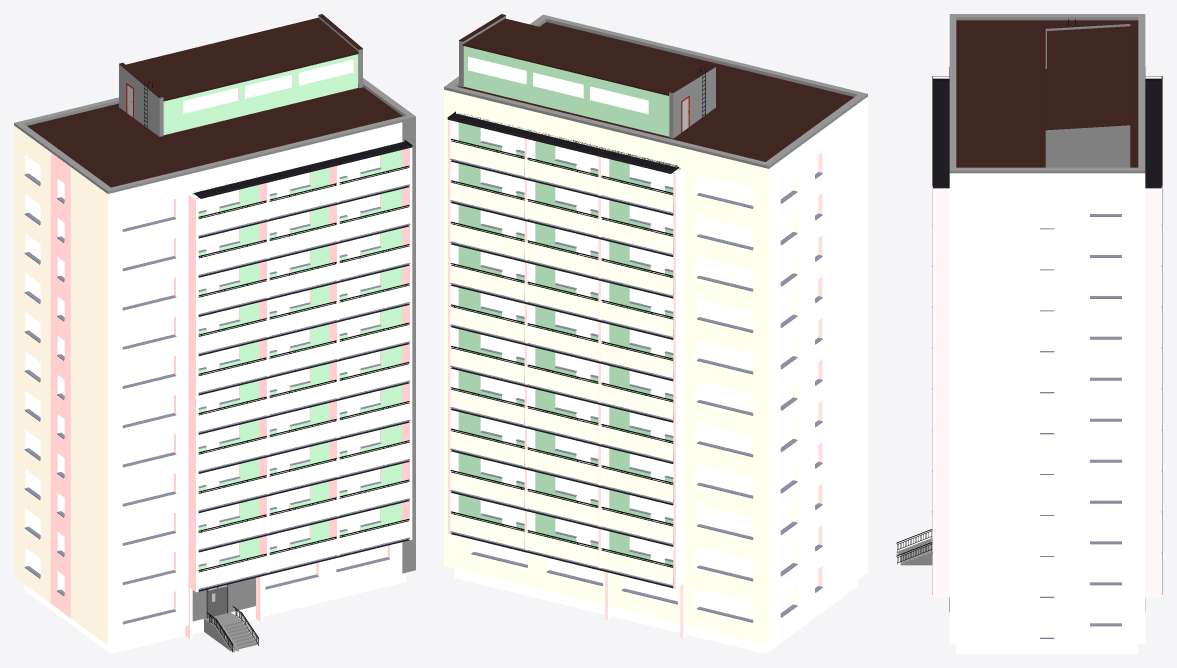
3 renders of one model, left to right at view 1: azimuth 30°, elevation 25°; view 2: azimuth 150°, elevation 25°; view 3: azimuth 270°, elevation 25°, orthographic. The views are drawn at different scales.
Visible parts, largest first — view 1: o_concrete_01, o_transparent_balcony, o_glass, o_roof, o_concrete_04, o_concrete_03, o_sides, o_frames, o_concrete_02, o_balcony_barriers, o_balcony_base, o_base (+2 smaller); view 2: o_concrete_01, o_transparent_balcony, o_glass, o_concrete_04, o_concrete_03, o_roof, o_sides, o_frames, o_concrete_02, o_balcony_base, o_balcony_barriers, o_base; view 3: o_concrete_01, o_roof, o_concrete_04, o_concrete_02, o_glass, o_balcony_base, o_transparent_balcony, o_sides, o_frames, o_base, o_balcony_barriers.
Boxes of the visible parts, <box> form: o_concrete_01: <box>14,122,402,645</box>; o_transparent_balcony: <box>198,167,409,588</box>; o_glass: <box>29,60,386,633</box>; o_roof: <box>27,14,412,198</box>; o_concrete_04: <box>50,59,412,638</box>; o_concrete_03: <box>160,54,401,571</box>; o_sides: <box>24,167,410,624</box>; o_frames: <box>29,59,387,621</box>; o_concrete_02: <box>14,16,415,652</box>; o_balcony_barriers: <box>198,165,409,652</box>; o_balcony_base: <box>193,140,412,591</box>; o_base: <box>23,573,406,653</box>; o_concrete_01: <box>444,89,867,644</box>; o_transparent_balcony: <box>450,141,672,584</box>; o_glass: <box>470,57,817,632</box>; o_concrete_04: <box>448,56,828,638</box>; o_concrete_03: <box>458,46,681,577</box>; o_roof: <box>447,14,853,173</box>; o_sides: <box>449,141,822,622</box>; o_frames: <box>469,57,818,619</box>; o_concrete_02: <box>444,14,867,168</box>; o_balcony_base: <box>447,112,678,588</box>; o_balcony_barriers: <box>450,139,673,583</box>; o_base: <box>454,568,857,653</box>; o_concrete_01: <box>949,173,1145,644</box>; o_roof: <box>932,20,1162,186</box>; o_concrete_04: <box>933,78,1161,597</box>; o_concrete_02: <box>896,14,1145,565</box>; o_glass: <box>1041,195,1120,623</box>; o_balcony_base: <box>933,78,1161,188</box>; o_transparent_balcony: <box>932,186,1161,637</box>; o_sides: <box>932,67,1162,638</box>; o_frames: <box>1040,195,1121,623</box>; o_base: <box>956,644,1138,653</box>; o_balcony_barriers: <box>896,529,932,564</box>.
Bounding box in the file's own units: 24.72 × 39.96 × 17.68.
